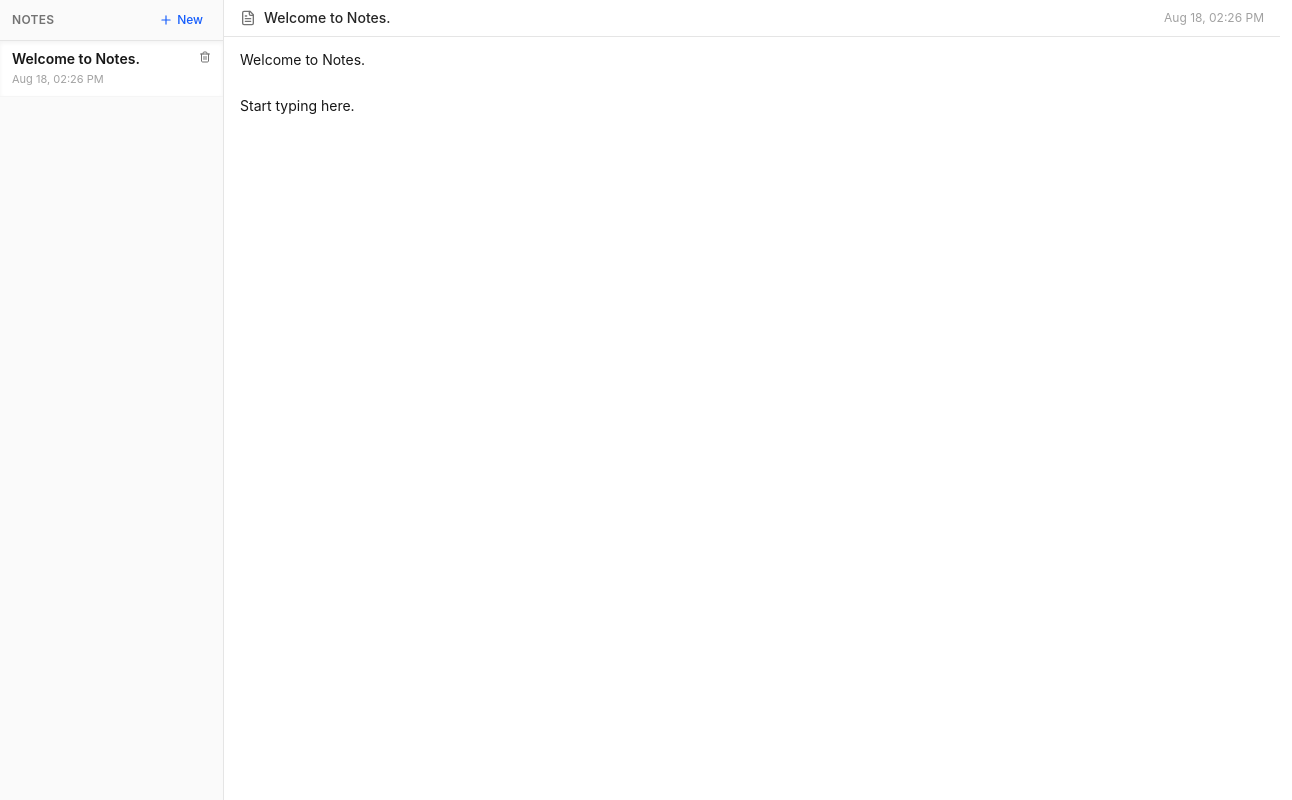
Scenario: Notes app › switches the active note when another sidebar entry is clicked
The width and height of the screenshot is (1292, 800).
Click the button with test id "new-note-btn" at {"x": 181, "y": 20}, box x1=151 y1=8 x2=211 y2=32
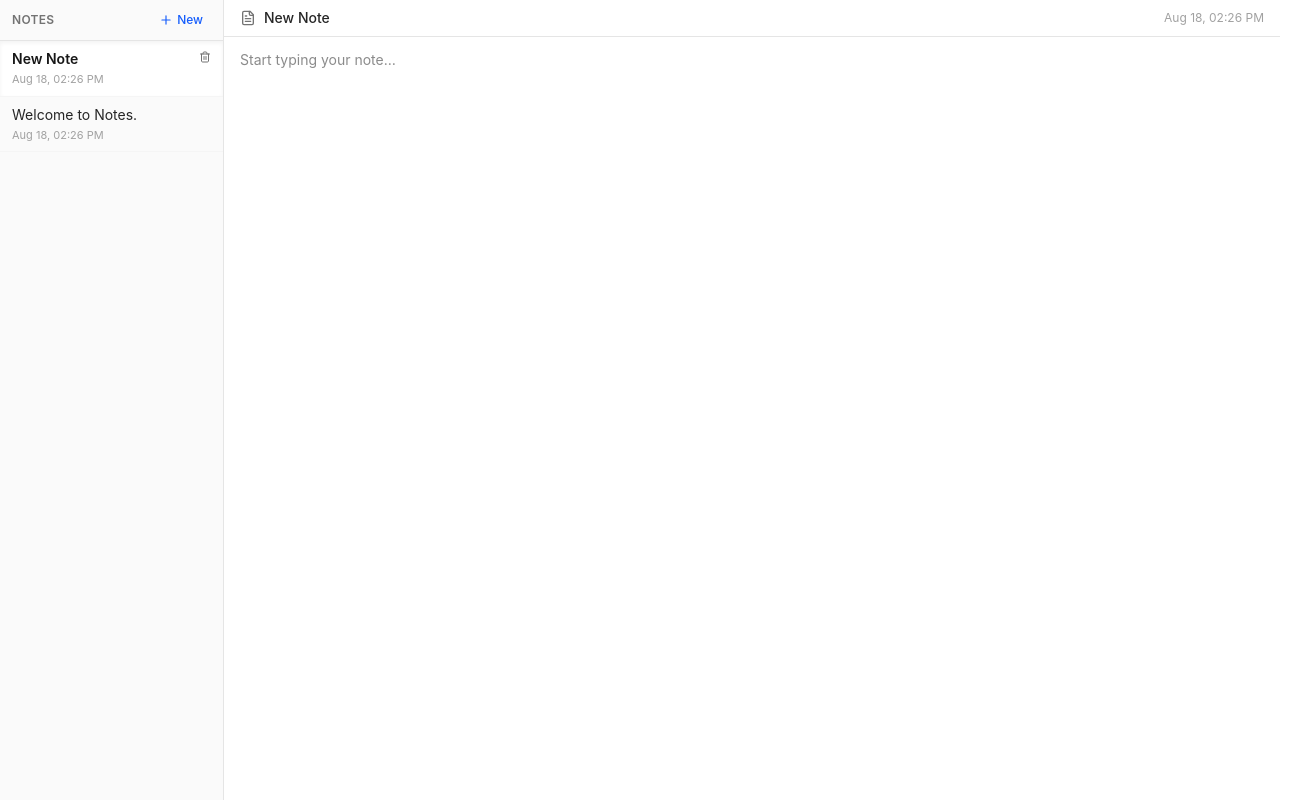
Type "Draft" into the text box with test id "note-editor" at {"x": 752, "y": 418}, box x1=224 y1=37 x2=1280 y2=799
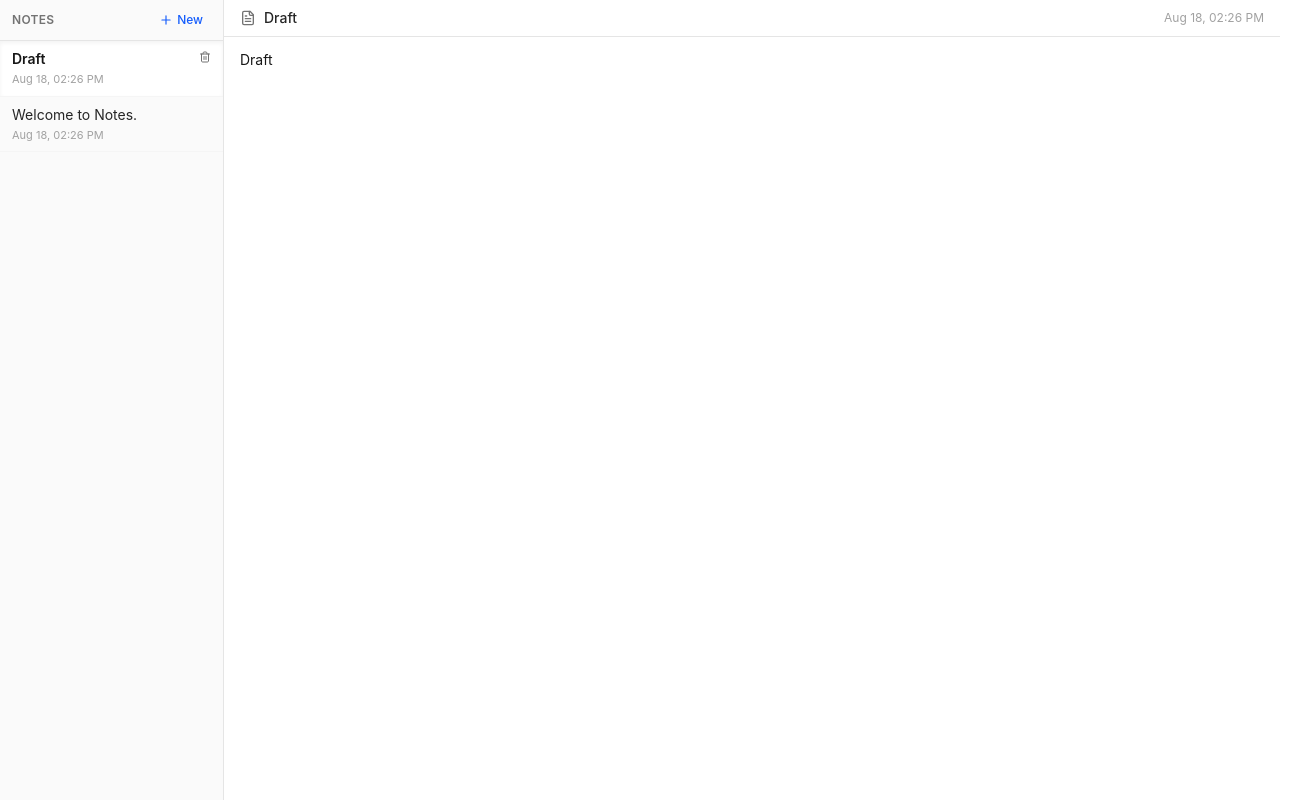
Click the list item "Welcome to Notes. Aug 18, 02:26 PM" at {"x": 75, "y": 124}, box x1=12 y1=106 x2=137 y2=142
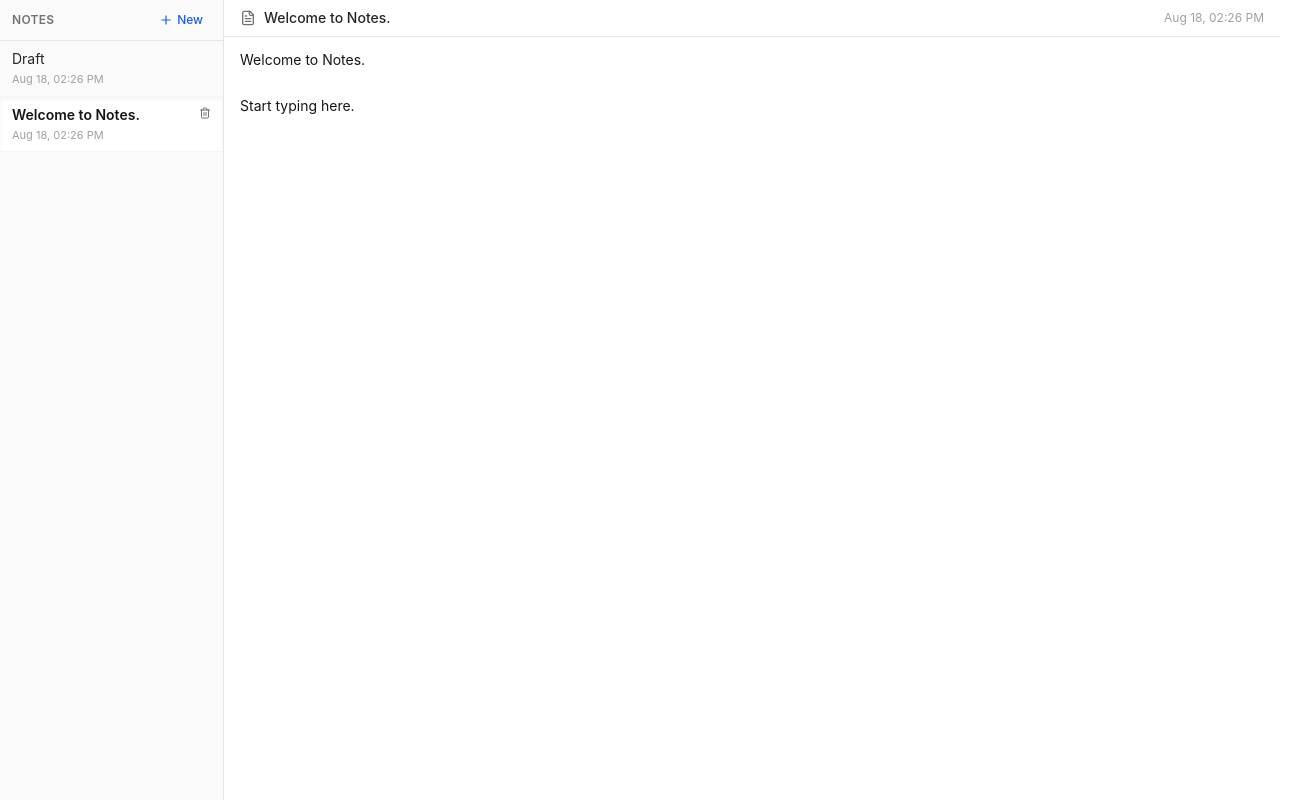
Check: the text with test id "note-active-title" reads "Welcome to Notes.", box x1=264 y1=9 x2=390 y2=26
Click the list item "Draft Aug 18, 02:26 PM" at {"x": 28, "y": 58}, box x1=12 y1=50 x2=104 y2=86
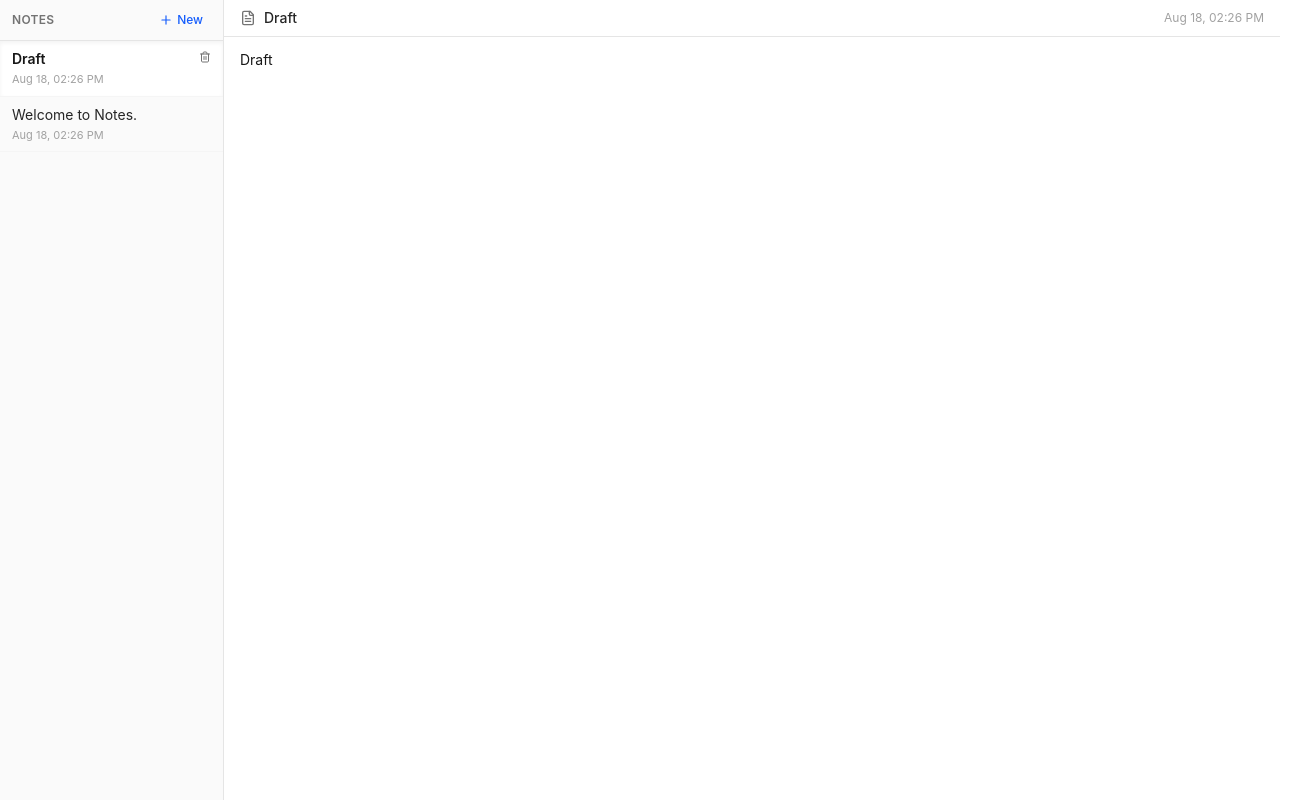
Check: the text box with test id "note-editor" holds "Draft"
